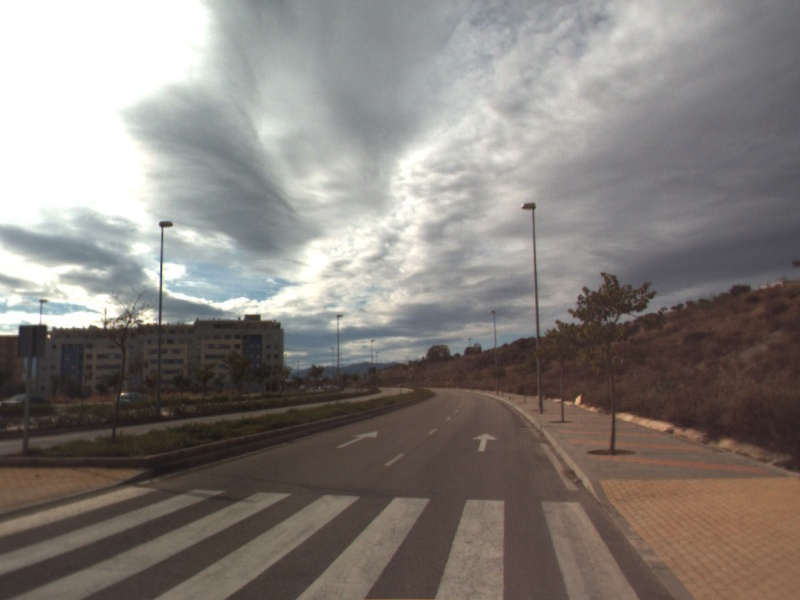STRAIGHT: (334, 429, 379, 450), (471, 431, 500, 454)
